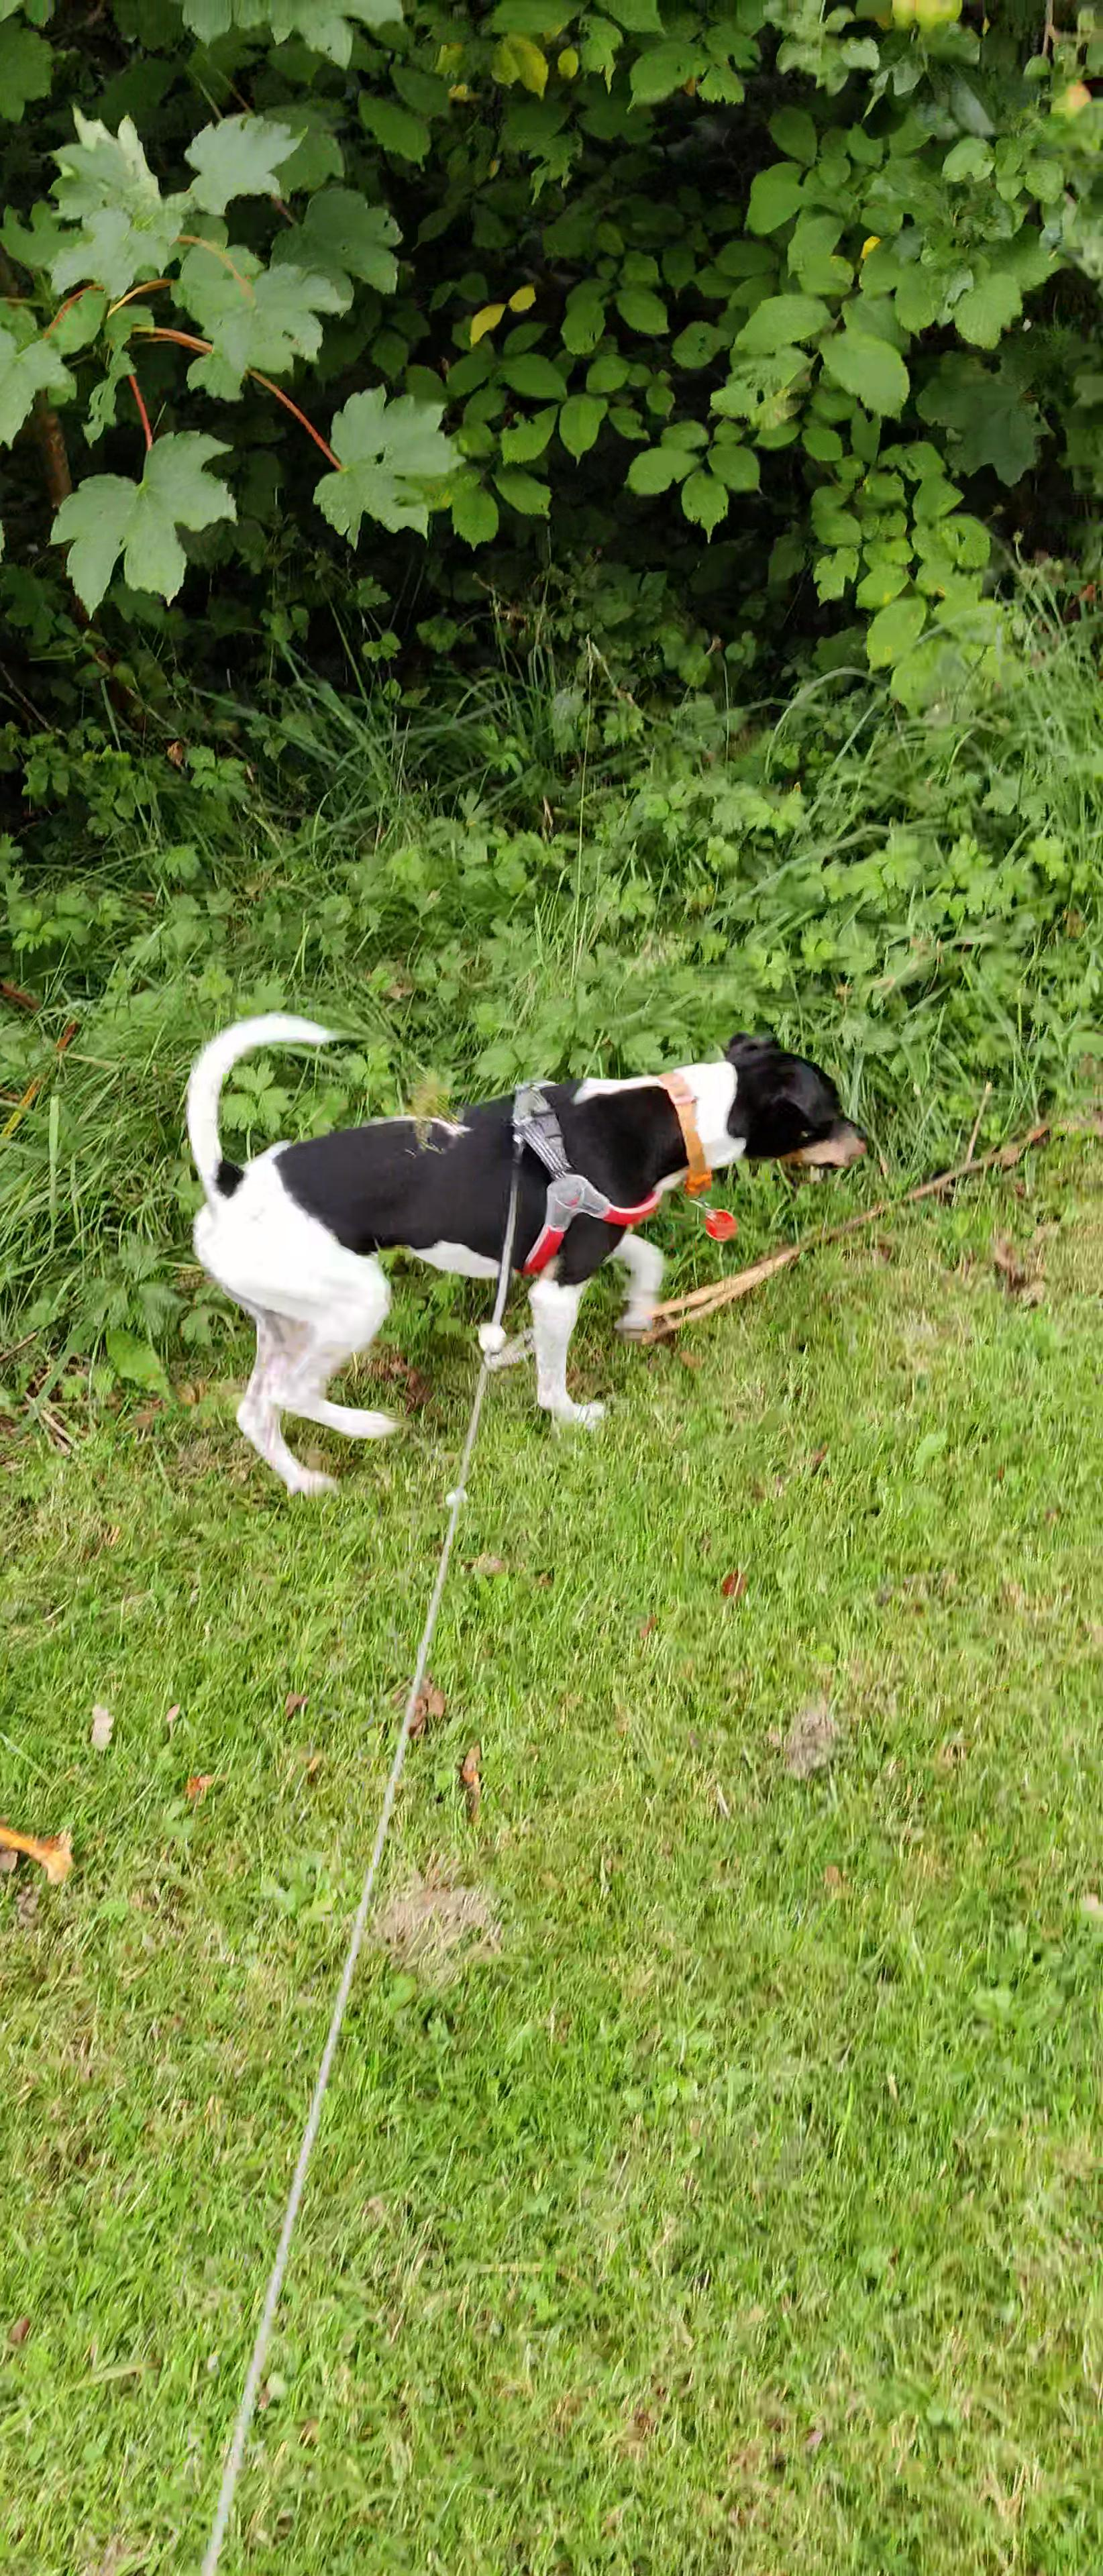Dog: (176, 1000, 879, 1503)
